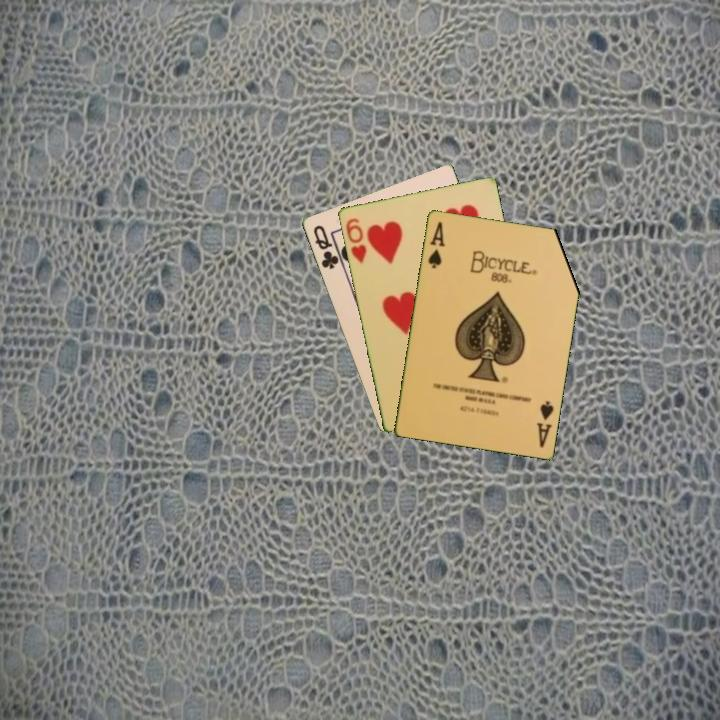6h: (342, 214, 369, 266)
As: (424, 218, 448, 271), (533, 397, 556, 450)
Qc: (309, 221, 345, 272)
